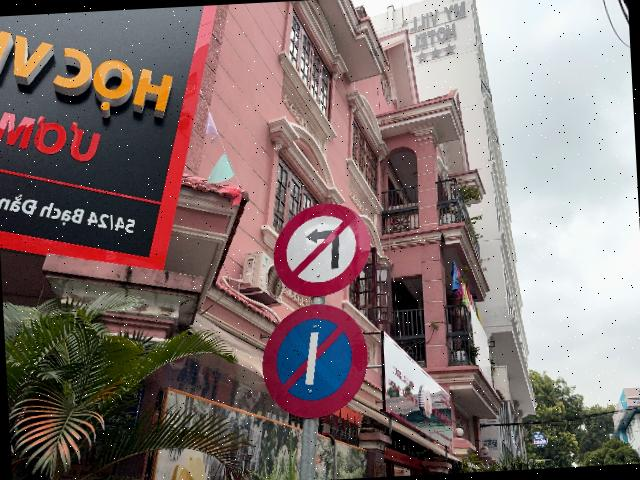cam-do-xe-ngay-le: (259, 302, 371, 422)
cam-re-phai: (270, 201, 374, 299)
